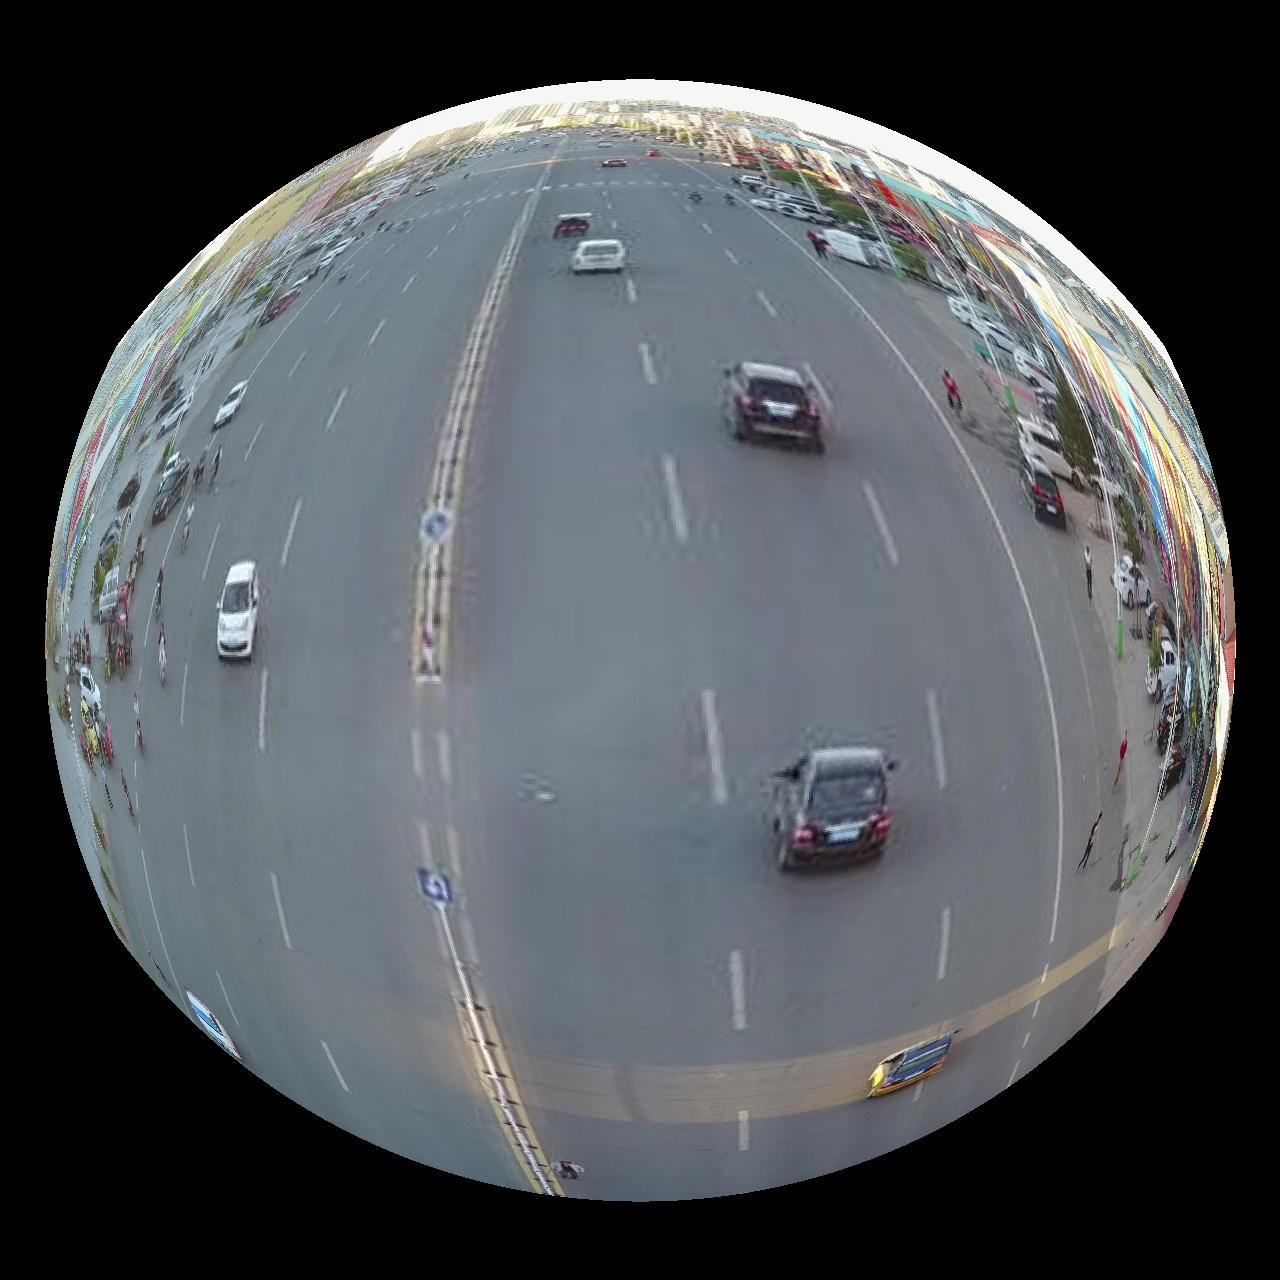cars: (769, 748, 899, 872), (726, 360, 825, 452), (870, 1034, 959, 1098), (215, 560, 257, 660), (572, 238, 627, 272), (211, 379, 246, 429), (553, 211, 592, 237)
